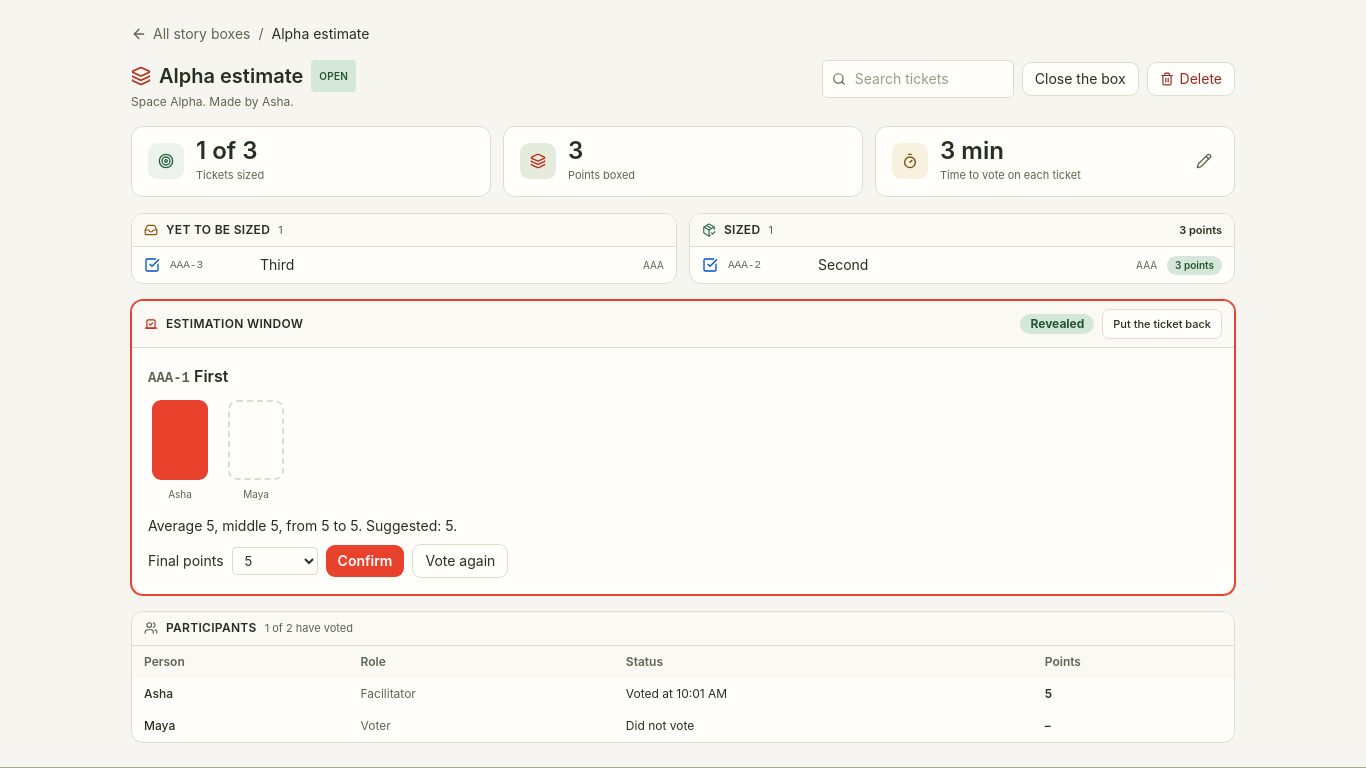
it: in the hosted edition › does not put points on the ticket when the server refuses to confirm, and says why
Click the button "Confirm" at (365, 561), box [326,545,404,577]
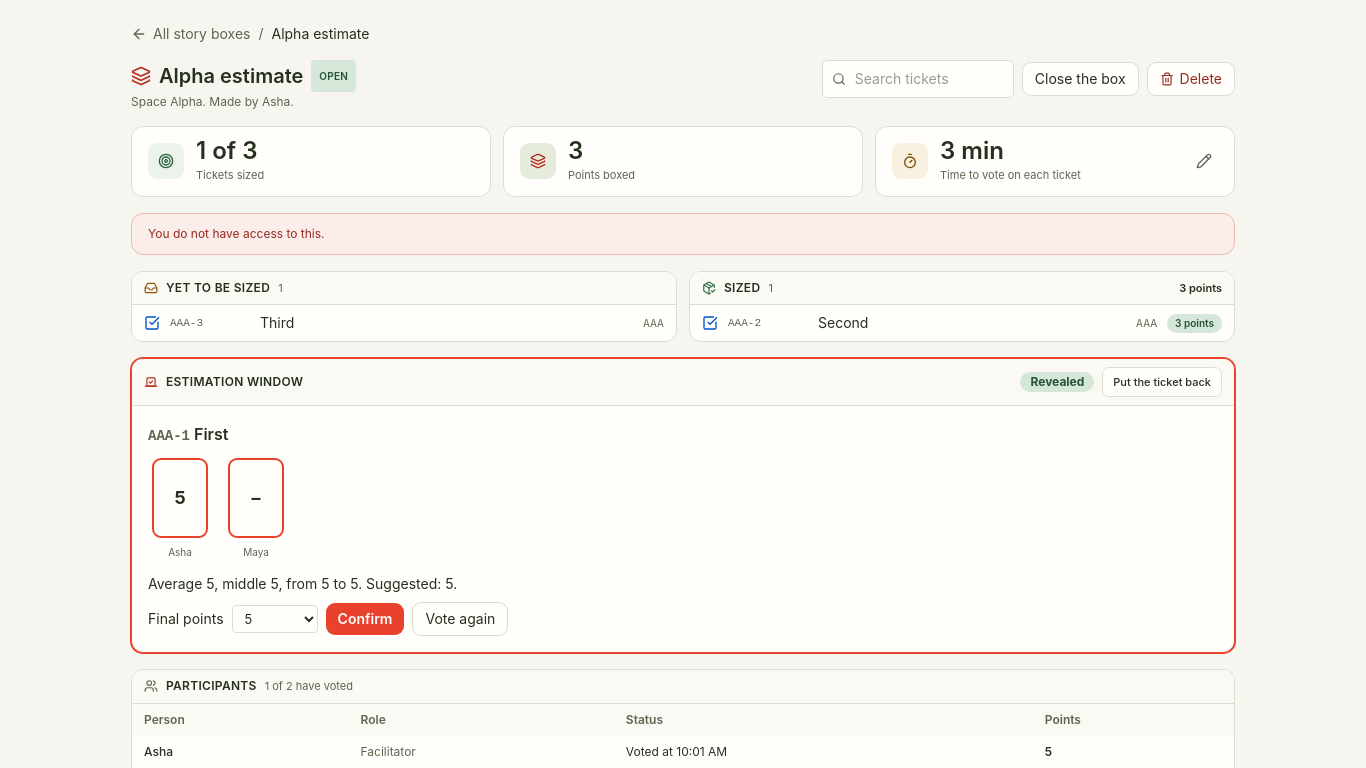
Result: the message "You do not have access to this." is shown at [131,212,1235,254]
